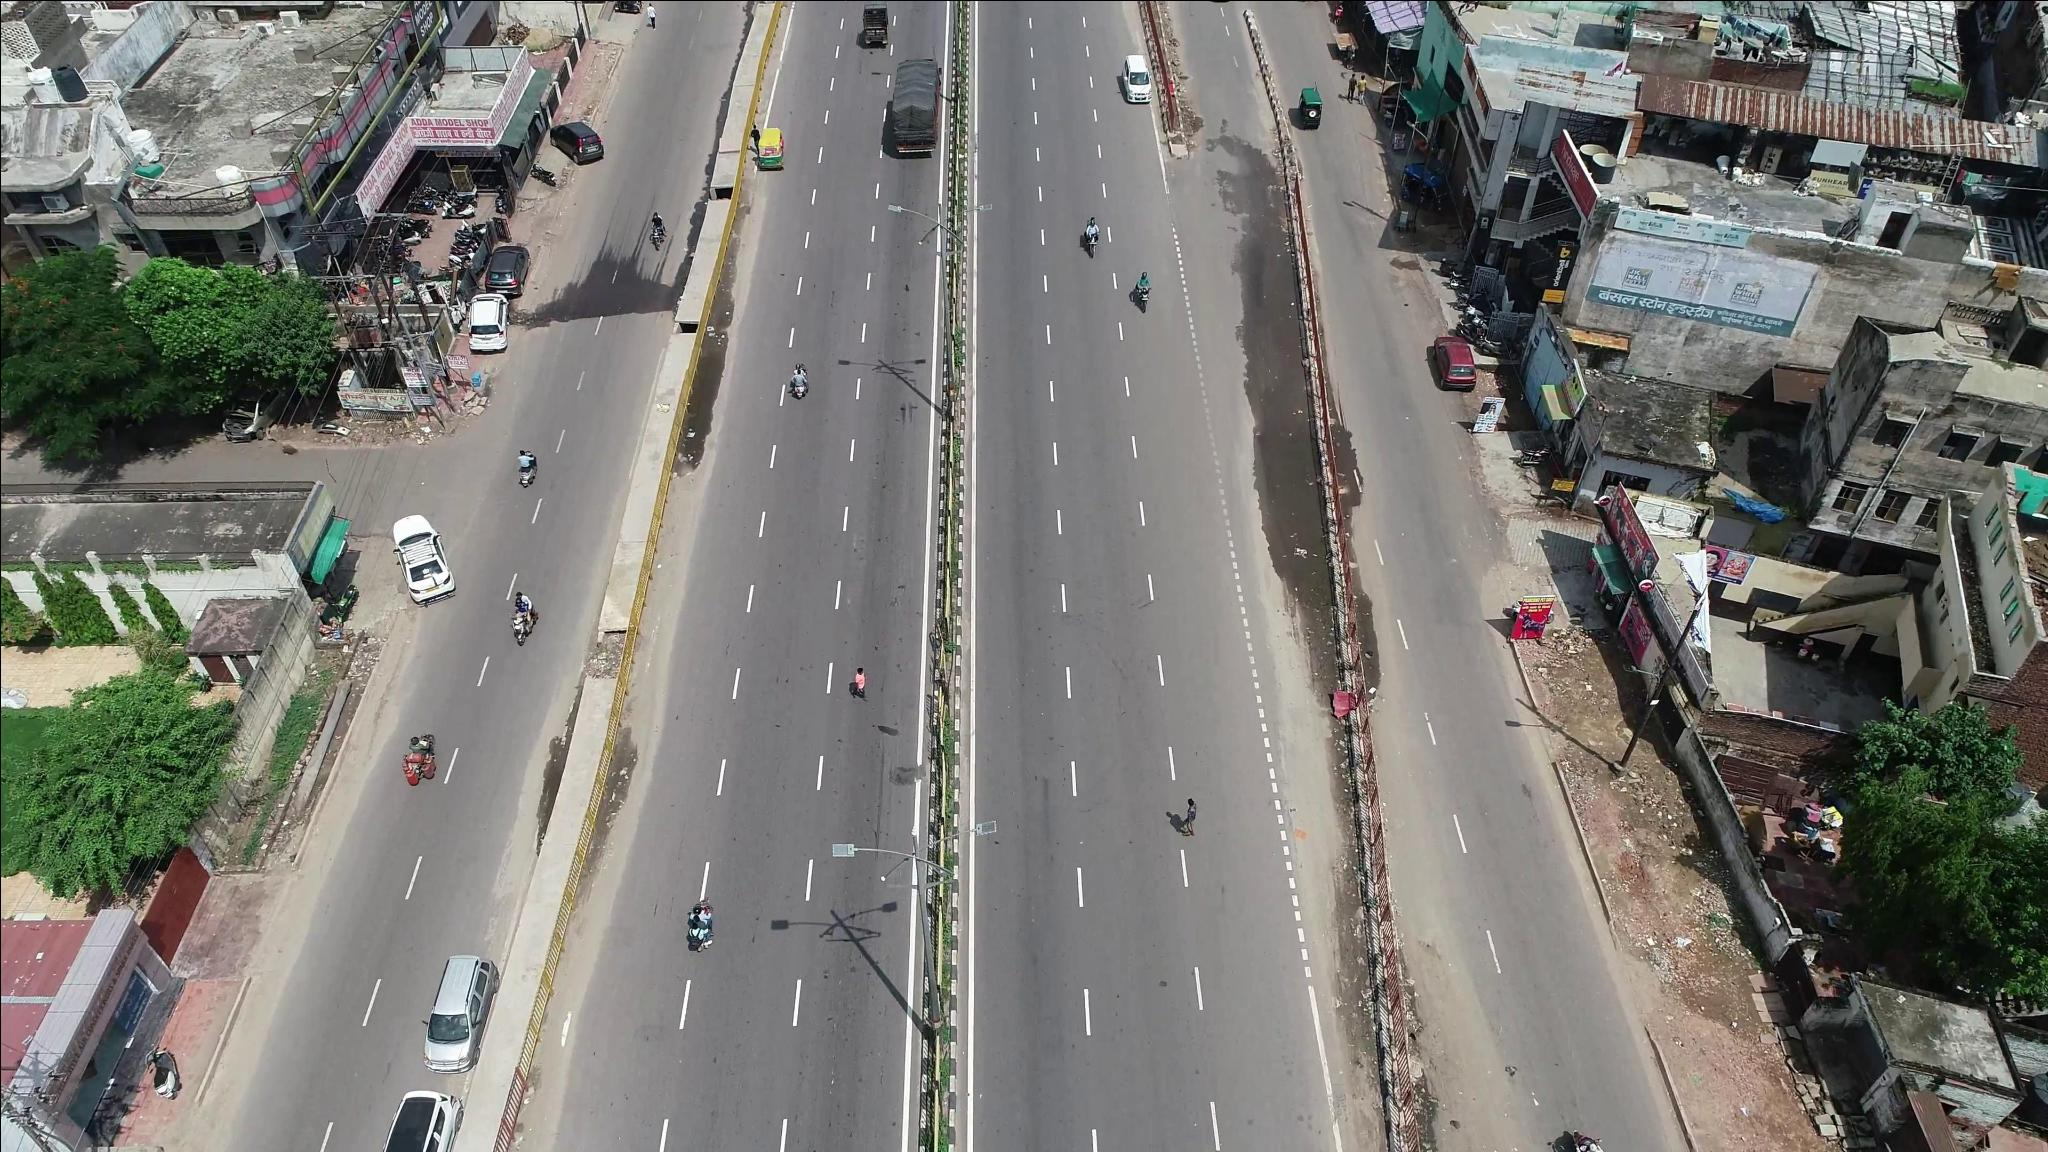Waterlogging: (1227, 248, 1326, 609)
